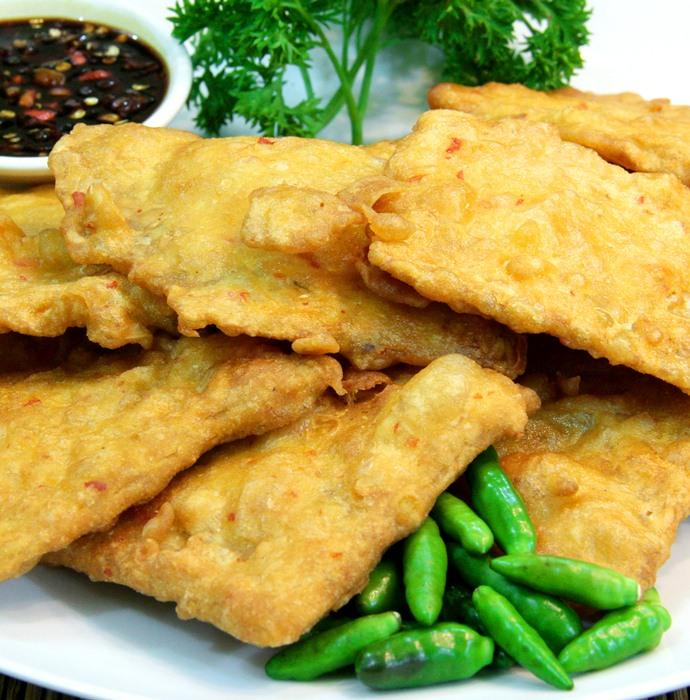Tempe: (140, 333, 471, 615), (387, 120, 690, 352), (91, 124, 412, 323), (512, 366, 684, 589)
